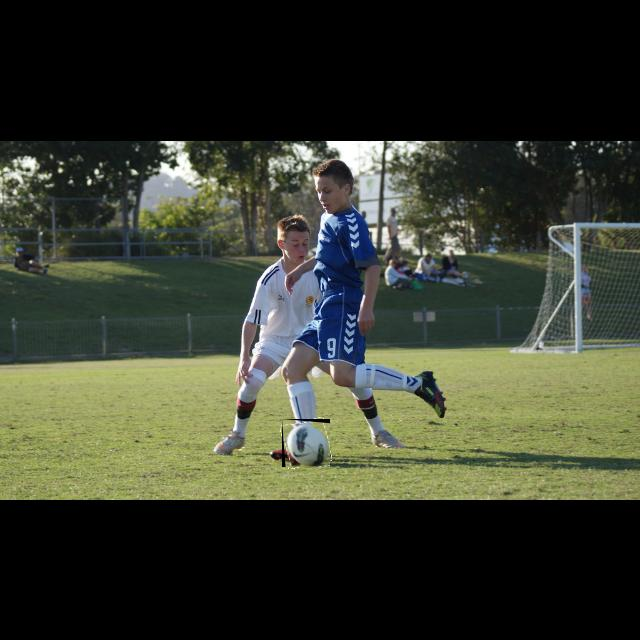Football: (282, 419, 330, 467)
